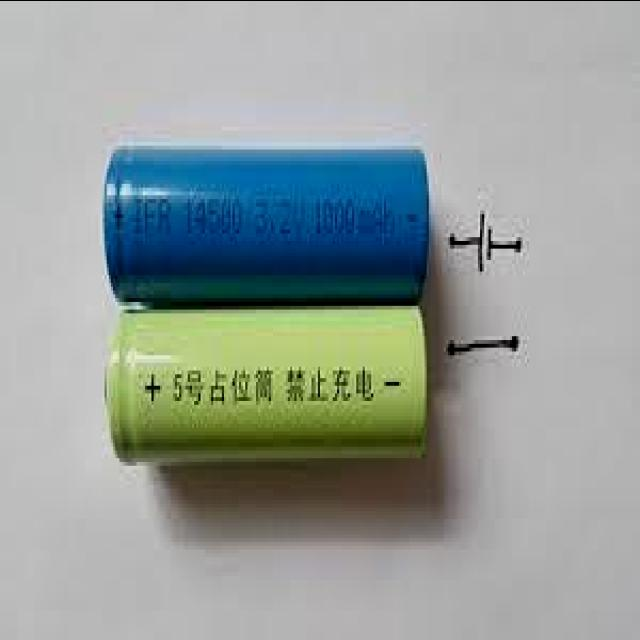AA: (100, 144, 428, 308), (100, 304, 427, 468)
